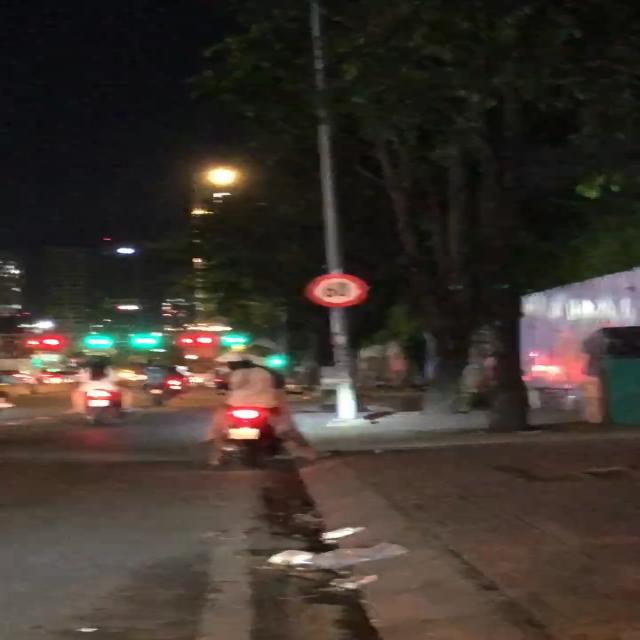Bien bao toc do toi da cho phep: (295, 265, 383, 312)
